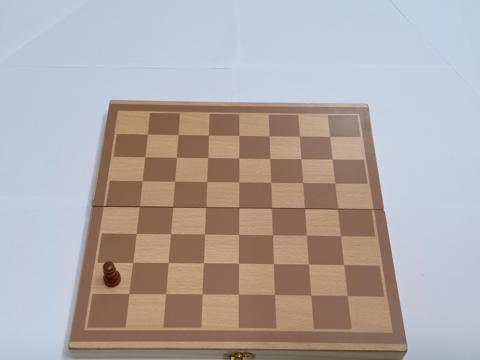xcorner: (234, 131, 244, 141), (265, 154, 275, 164), (143, 131, 153, 140), (141, 153, 150, 163), (138, 177, 147, 187), (128, 259, 138, 268), (168, 203, 177, 213), (166, 230, 175, 240), (163, 259, 173, 268), (204, 131, 213, 141), (201, 203, 210, 213), (200, 230, 209, 240), (199, 259, 208, 269), (197, 290, 207, 299), (234, 154, 244, 163), (234, 178, 243, 188), (234, 290, 243, 300), (266, 178, 275, 188), (296, 155, 306, 164), (300, 204, 309, 214), (302, 231, 311, 241), (325, 132, 334, 142), (327, 155, 337, 164), (333, 204, 342, 214), (339, 260, 348, 270), (342, 291, 352, 300), (135, 203, 144, 212), (132, 230, 141, 239), (125, 290, 134, 299), (174, 131, 183, 140), (172, 154, 181, 163), (170, 178, 179, 187), (161, 290, 170, 299), (203, 154, 212, 163), (202, 178, 211, 187), (234, 204, 243, 213), (234, 231, 243, 240), (234, 260, 243, 269), (265, 132, 274, 141), (267, 204, 276, 213), (268, 231, 277, 240), (269, 260, 278, 269), (270, 291, 279, 300), (295, 132, 304, 141), (298, 179, 307, 188), (304, 260, 313, 269), (306, 291, 315, 300), (330, 179, 339, 188), (336, 232, 345, 241)
